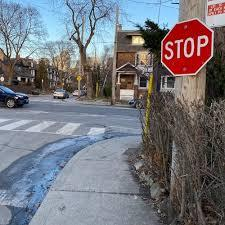Sign: (162, 21, 213, 75)
